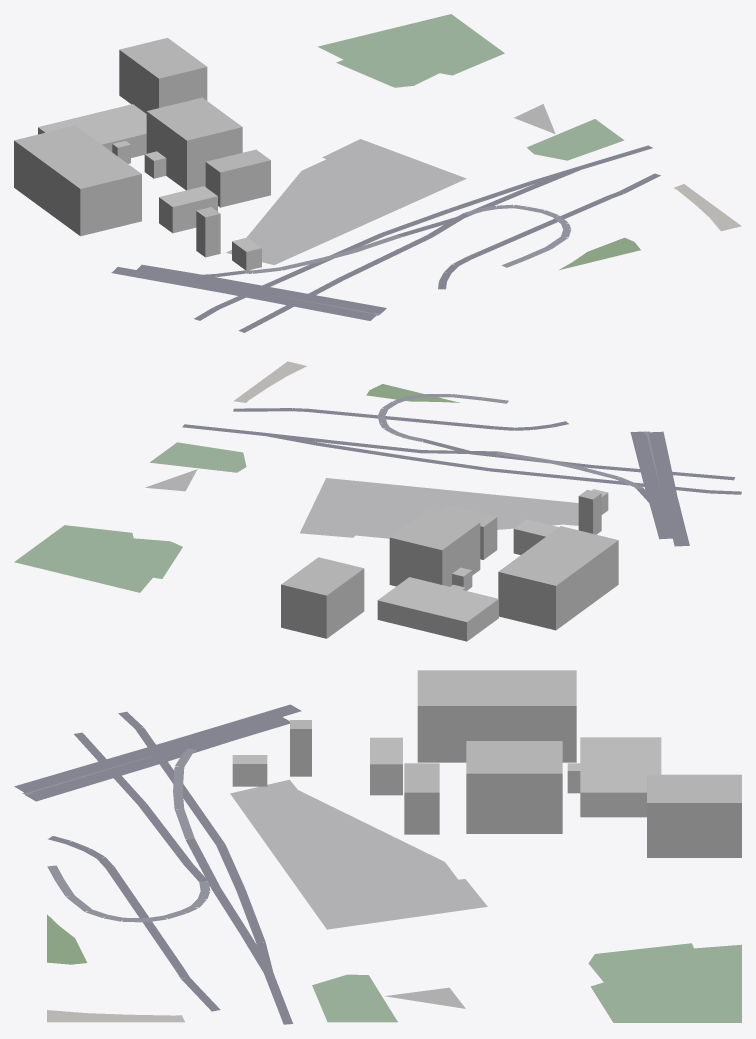
The model's file is 123_114_mid.glb.
3 views of the same model, one above another, from view 1: azimuth 30°, elevation 25°; view 2: azimuth 150°, elevation 25°; view 3: azimuth 270°, elevation 25° (orthographic). The views are drawn at different scales.
Size of the model in its own units: 536 by 48.19 by 524.
